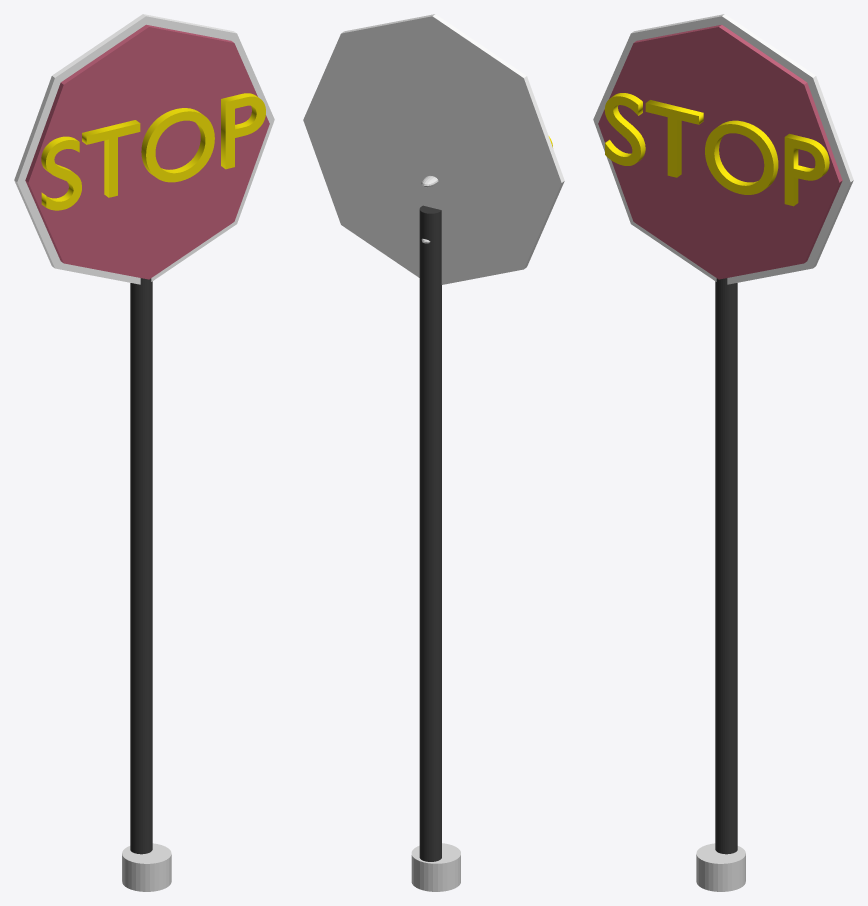
3 views of the same model, side by side, from view 1: azimuth 30°, elevation 25°; view 2: azimuth 150°, elevation 25°; view 3: azimuth 330°, elevation 25° (orthographic).
Parts seen in each view (by area): view 1: Cylinder.003, Cylinder.001, Text, Cylinder.002, Cylinder; view 2: Cylinder.002, Cylinder.001, Cylinder; view 3: Cylinder.003, Cylinder.001, Text, Cylinder.002, Cylinder.
Boxes of the visible parts, x1,y1,x2,y2 form: Cylinder.003: (25,24,269,279); Cylinder.001: (130,278,152,854); Text: (41,93,265,210); Cylinder.002: (14,14,274,284); Cylinder: (122,843,171,891); Cylinder.002: (303,14,564,284); Cylinder.001: (419,205,441,861); Cylinder: (411,843,460,891); Cylinder.003: (598,24,842,279); Cylinder.001: (715,278,737,854); Text: (604,93,829,206); Cylinder.002: (593,14,853,284); Cylinder: (696,843,745,891).
Bounding box in the file's own units: 0.96 × 3.08 × 0.16.
